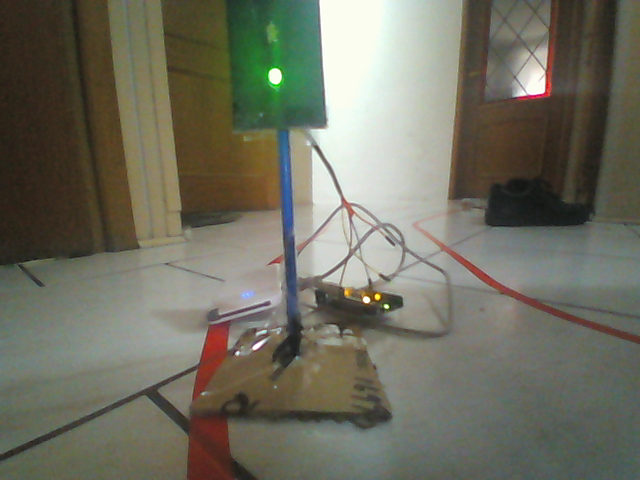green_sign: (223, 1, 332, 130)
